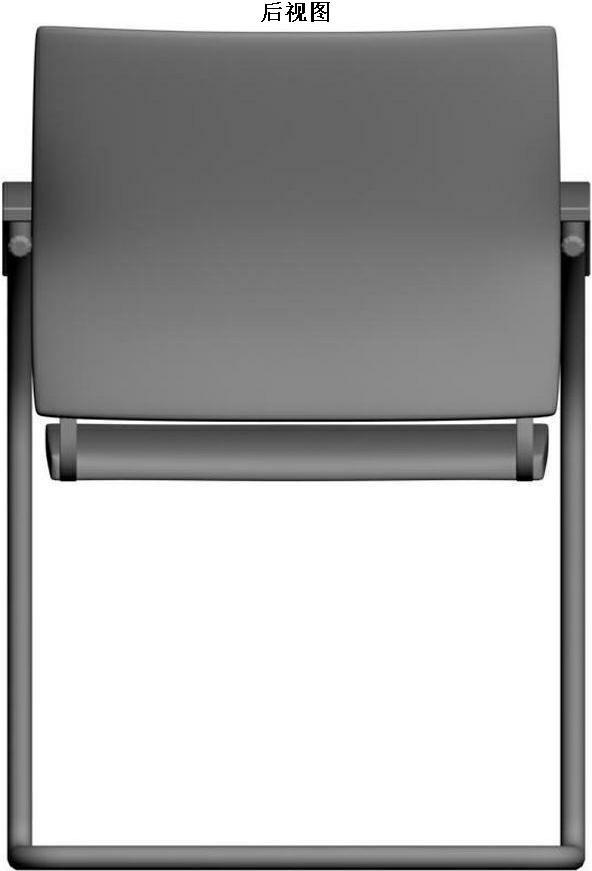obstacle: (5, 27, 586, 867)
